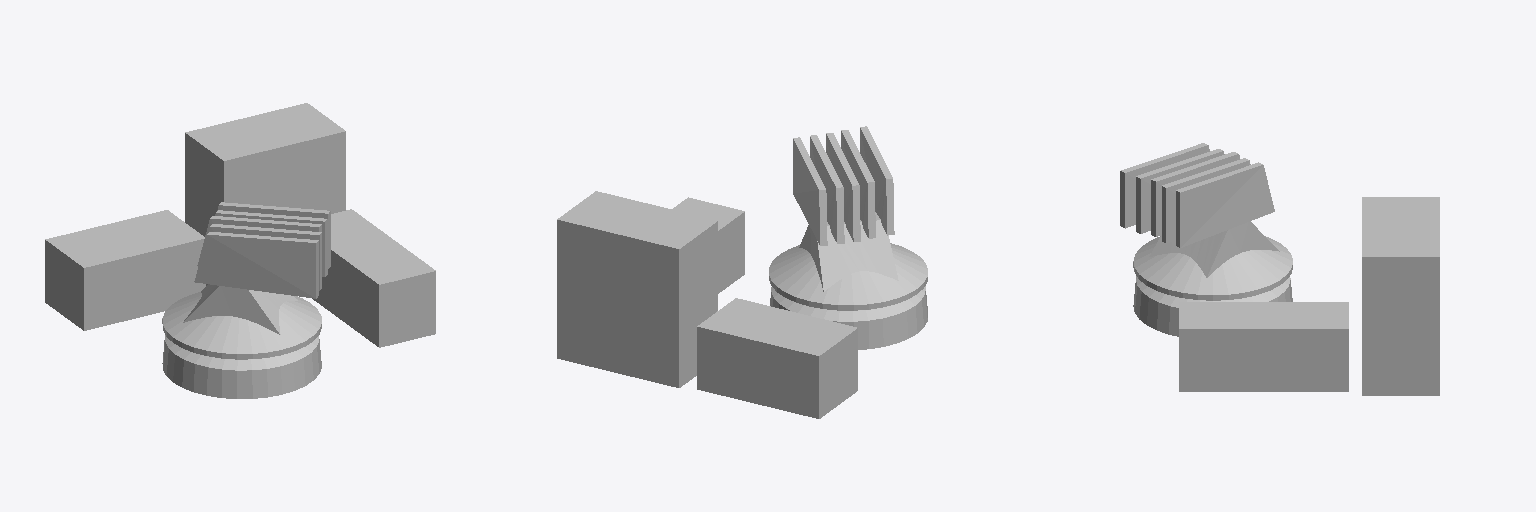
Rendered from kraftwerk.obj.
3 renders of one model, left to right at view 1: azimuth 30°, elevation 25°; view 2: azimuth 150°, elevation 25°; view 3: azimuth 270°, elevation 25°, orthographic.
Parts seen in each view (by area): view 1: Cube.001_Cube.002; view 2: Cube.001_Cube.002; view 3: Cube.001_Cube.002.
Part boxes in pixels (bbox=[...]): Cube.001_Cube.002: bbox=[45, 103, 435, 398]; Cube.001_Cube.002: bbox=[557, 126, 927, 418]; Cube.001_Cube.002: bbox=[1120, 143, 1439, 395].
Size of the model in its own units: 1.53 by 0.8494 by 1.61.